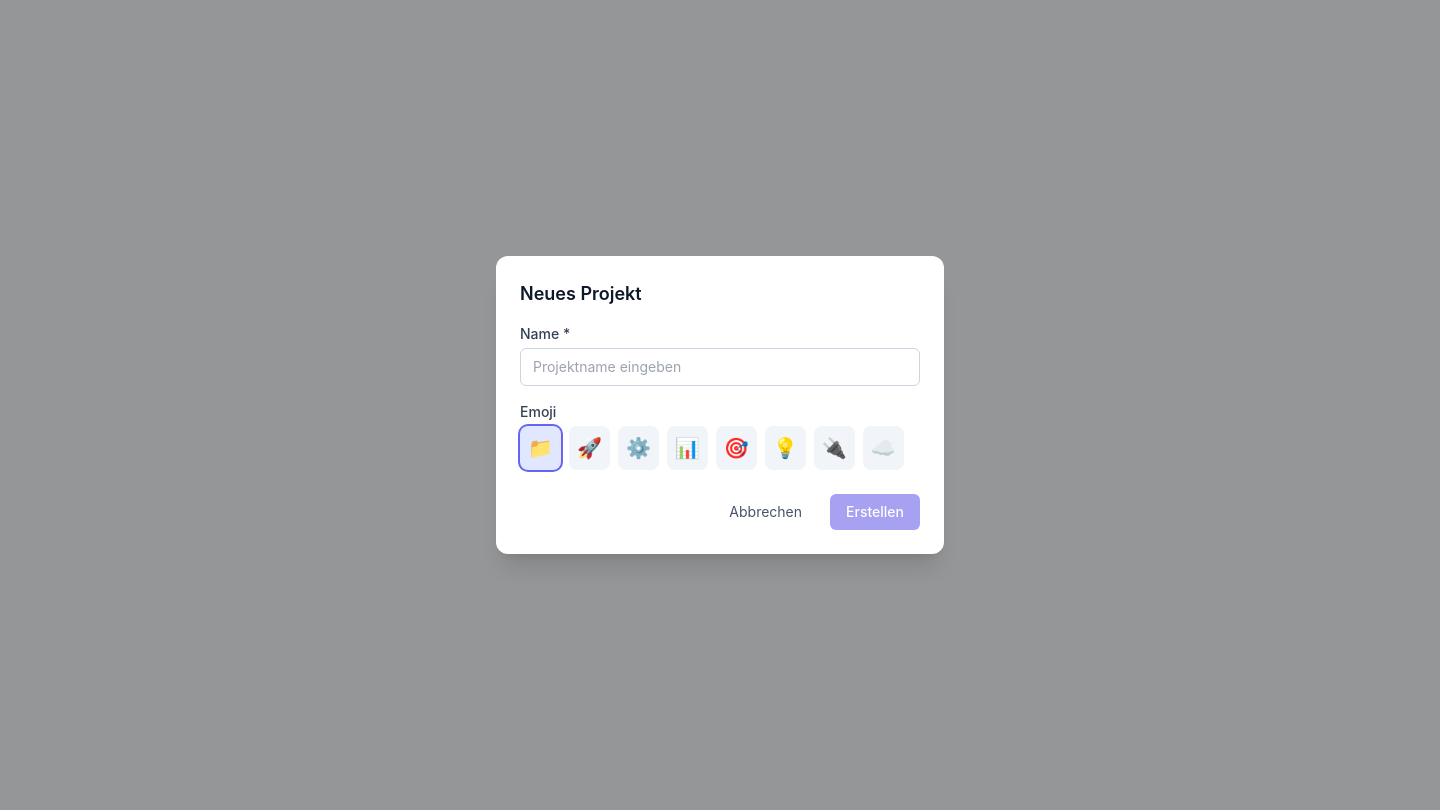
Test: CreateProjectModal › enables submit after typing name
Type "Mein Projekt" into the field labelled "Name *".
click(720, 367); type("Mein Projekt")  # box [520,348,920,386]
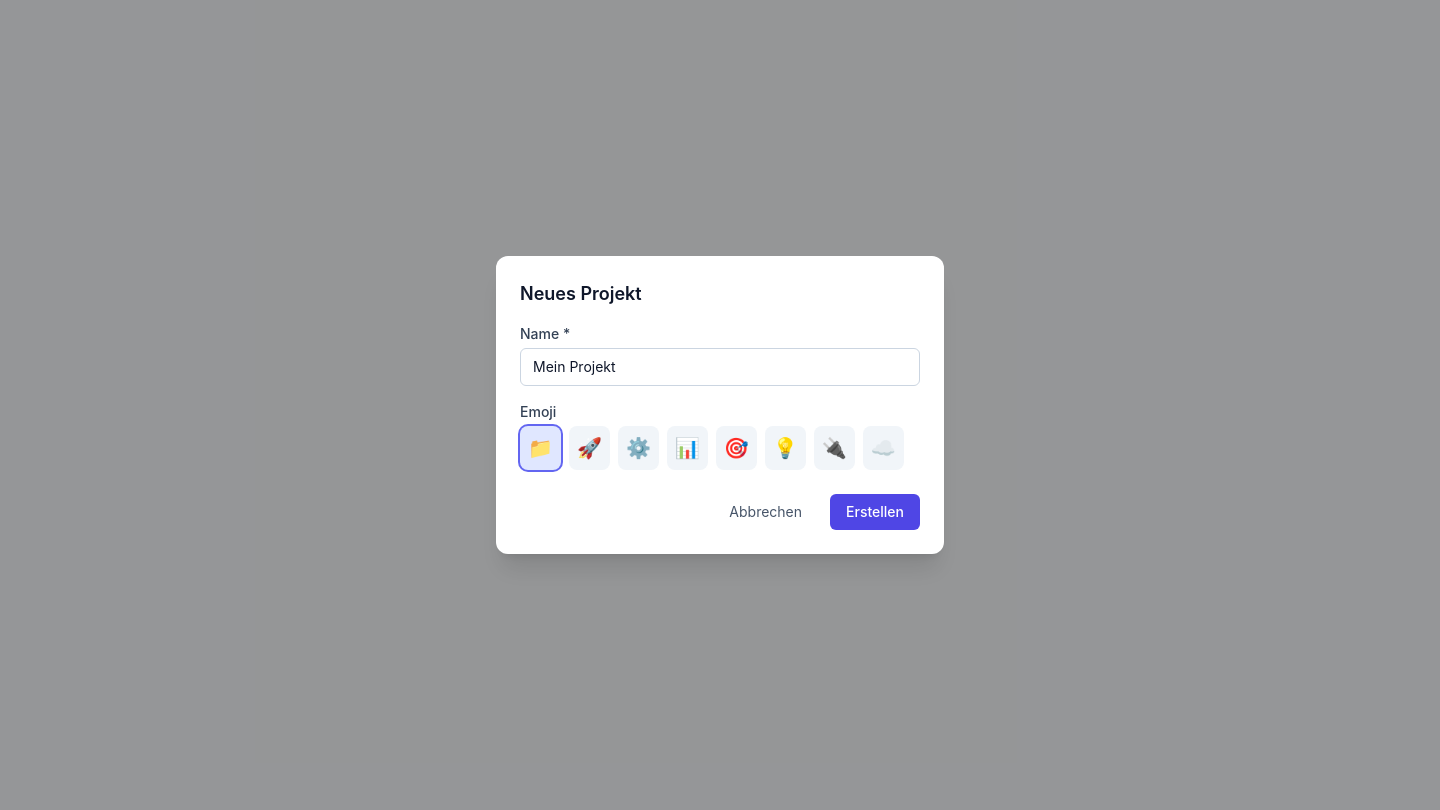
Check: the button "Erstellen" is enabled, box [830,494,920,530]
